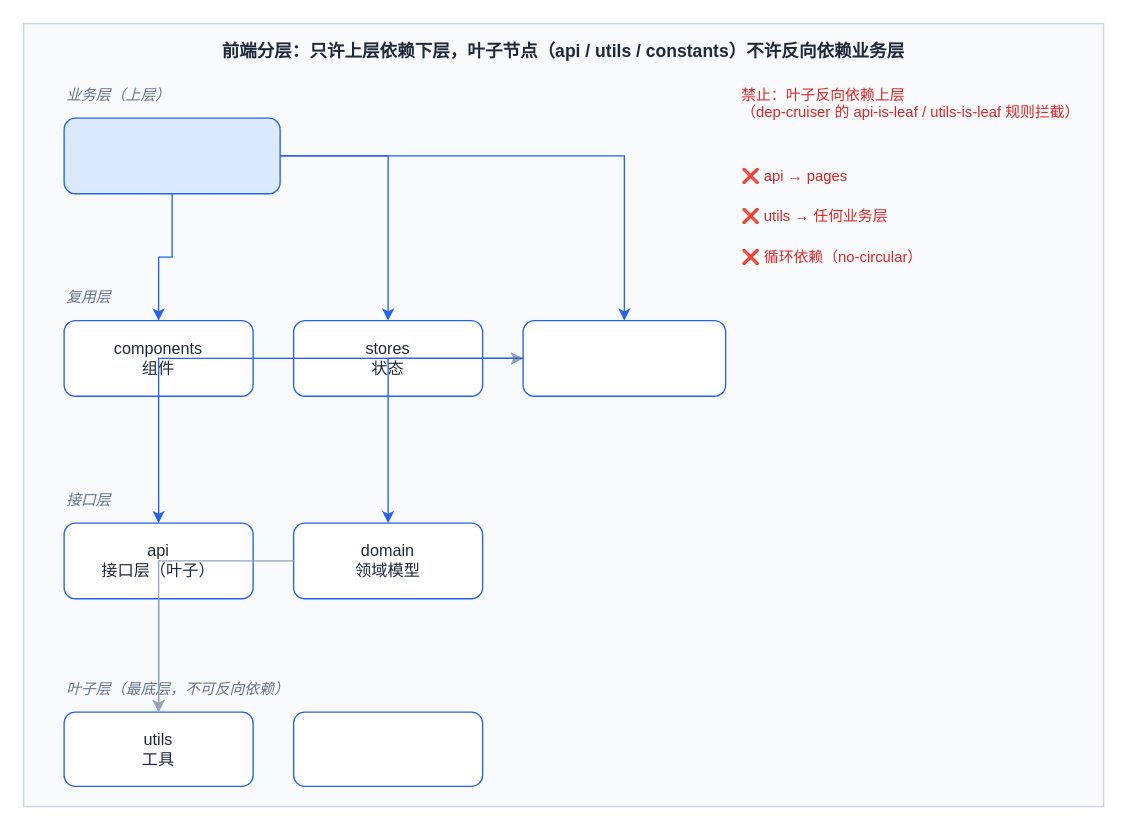
The diagram is 1127 pixels wide and 830 high, and some of its shapes have lost their labels. The centre of each missing label's shape, as x and y in pixels:
composables 组合式逻辑: point (624, 357)
constants 常量: point (387, 748)
pages / views 业务页面: point (171, 155)
